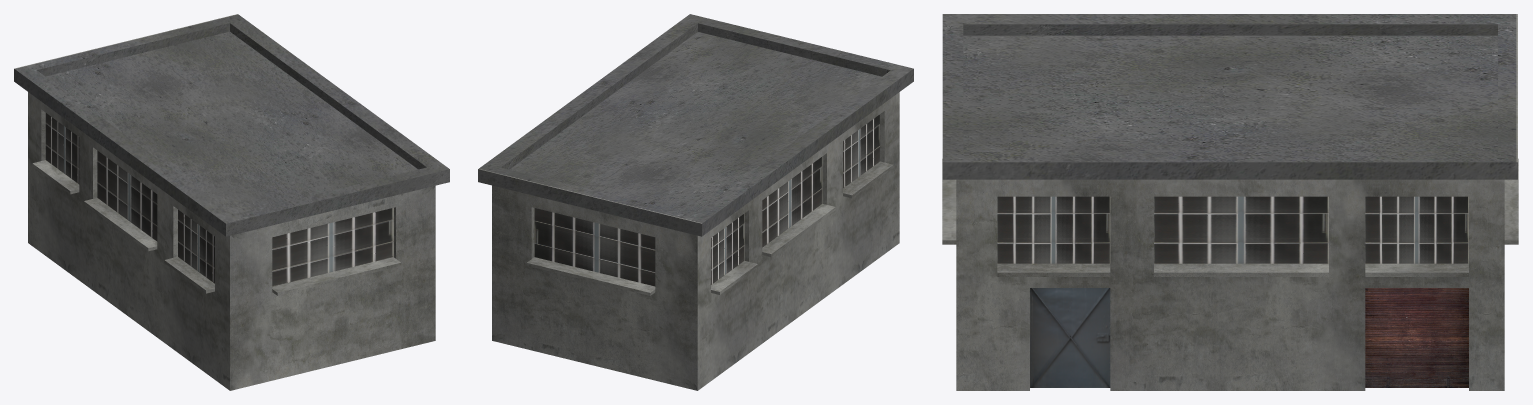
The model's file is house1.fbx.
The picture shows the model from 3 angles, left to right: view 1: azimuth 30°, elevation 25°; view 2: azimuth 150°, elevation 25°; view 3: azimuth 270°, elevation 25°; orthographic projection. The views are drawn at different scales.
Parts seen in each view (by area): view 1: House; view 2: House; view 3: House.
Boxes of the visible parts, box(x1,y1,x2,y2) form: House: box(14, 14, 449, 390); House: box(478, 14, 913, 390); House: box(942, 14, 1518, 390).
Size of what is drawn, in the model's own units: 4.99 by 3.69 by 8.2.
